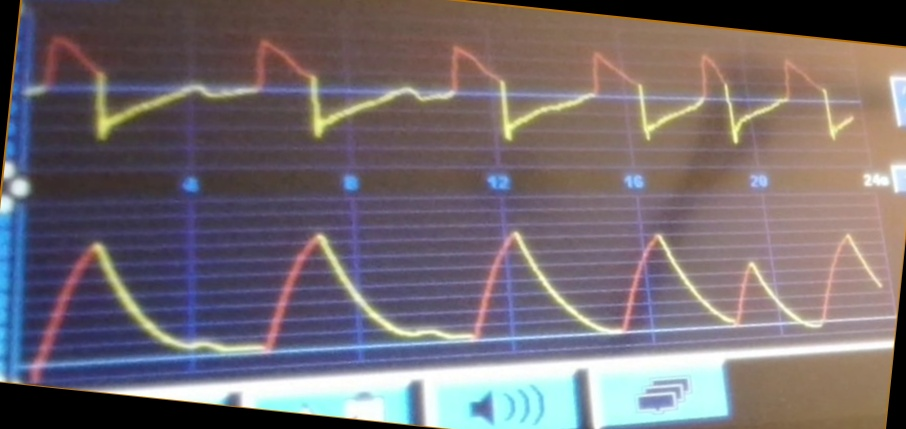Ineffective_effort Flow: (33, 34, 859, 151)
Ineffective_effort Volume: (24, 214, 884, 356)
